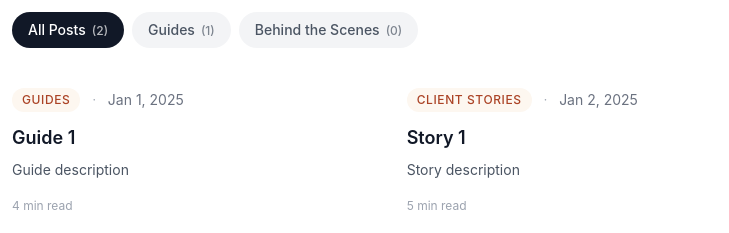
Test case: BlogCategoryFilter › shows empty state and can reset to all posts
This screenshot has width=729, height=233.
What coordinates should you click on to do the following:
click the button "Behind the Scenes(0)"
I would click on:
 (329, 30)
Its box is [239,12,418,48].
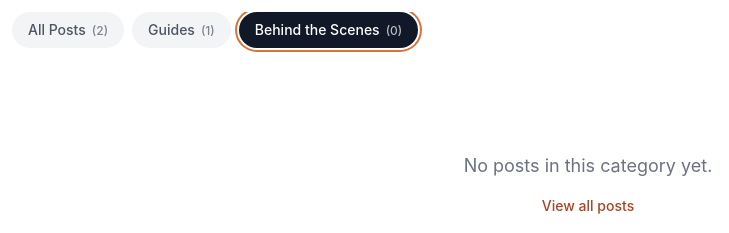
Now the text "No posts in this category yet." is shown, box [464,155,712,176]
What coordinates should you click on to do the following:
click the button "View all posts"
I would click on:
 (588, 206)
Its box is [542,196,634,216].
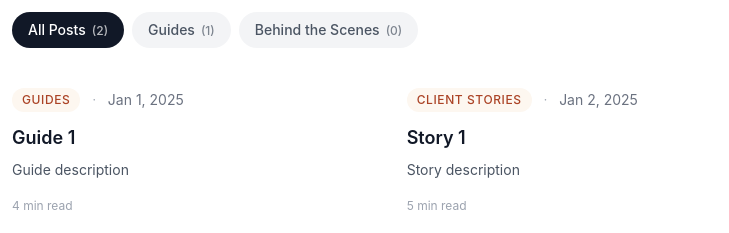
Now the heading "Guide 1" is shown, box [12,127,75,148]
Now the heading "Story 1" is shown, box [407,127,466,148]
